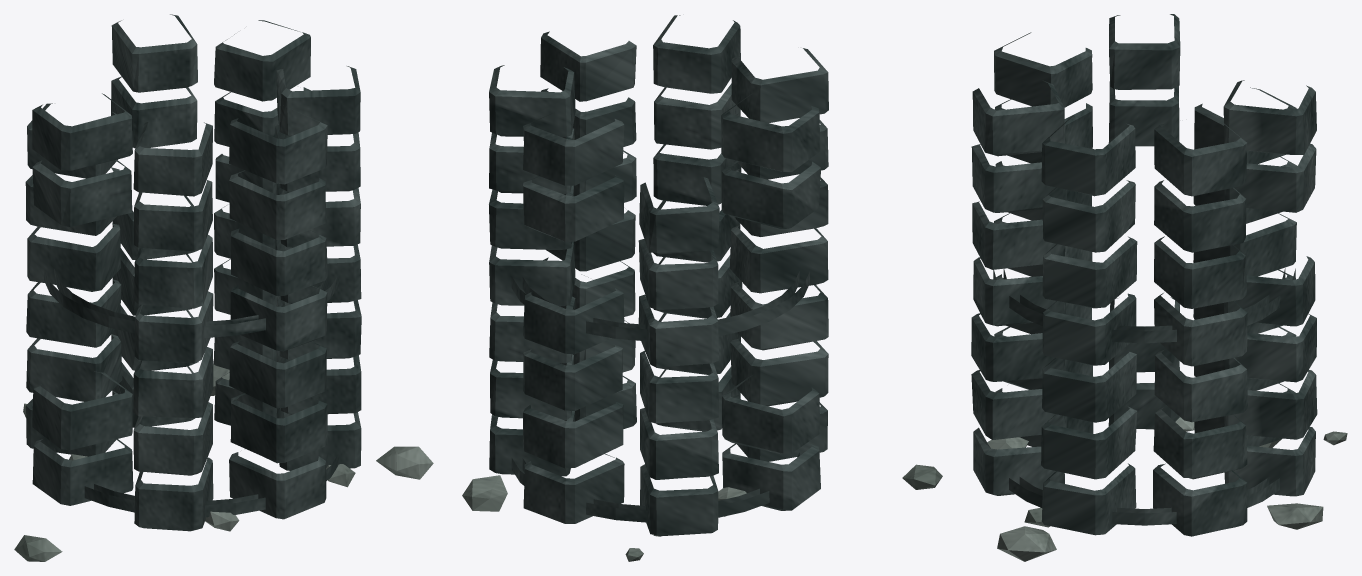
Rendered from 0424_ruined_tower_24.glb.
3 renders of one model, left to right at view 1: azimuth 30°, elevation 25°; view 2: azimuth 150°, elevation 25°; view 3: azimuth 270°, elevation 25°, orthographic.
Parts seen in each view (by area): view 1: stone_dark, stone; view 2: stone_dark, stone; view 3: stone_dark, stone.
Boxes of the visible parts, x1,y1,x2,y2 form: stone_dark: (25,14,361,531); stone: (14,364,433,561); stone_dark: (489,15,828,536); stone: (462,464,942,561); stone_dark: (971,14,1317,536); stone: (987,417,1347,561).
Bounding box in the file's own units: 3.18 × 2.96 × 2.53.
Materials: 2 (2 with a texture image).
